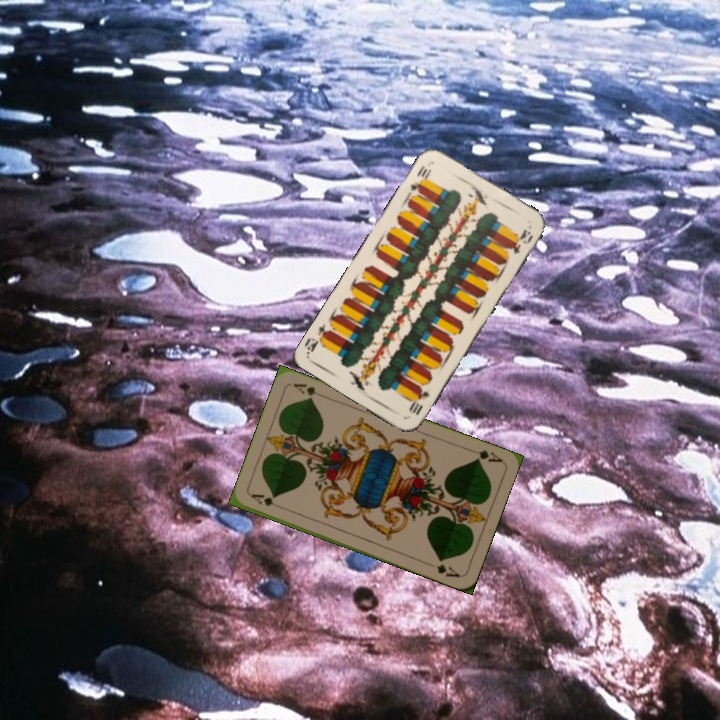E10: (404, 380, 432, 417), (406, 161, 434, 195)
GA: (247, 490, 286, 512), (471, 446, 505, 465)
